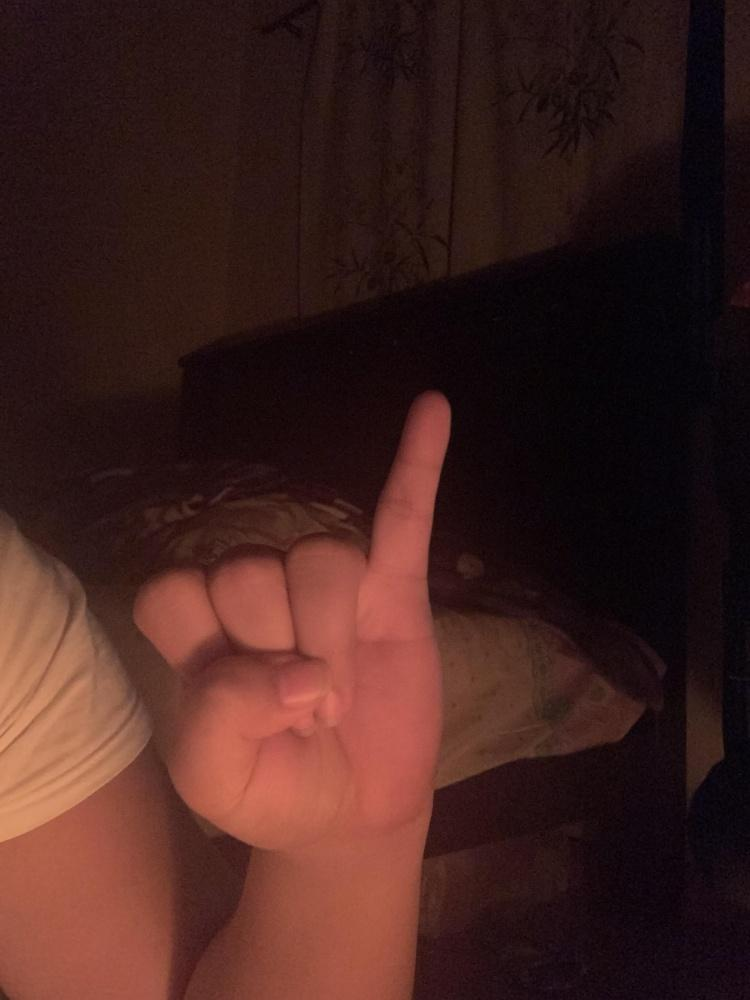i: (125, 391, 451, 844)
